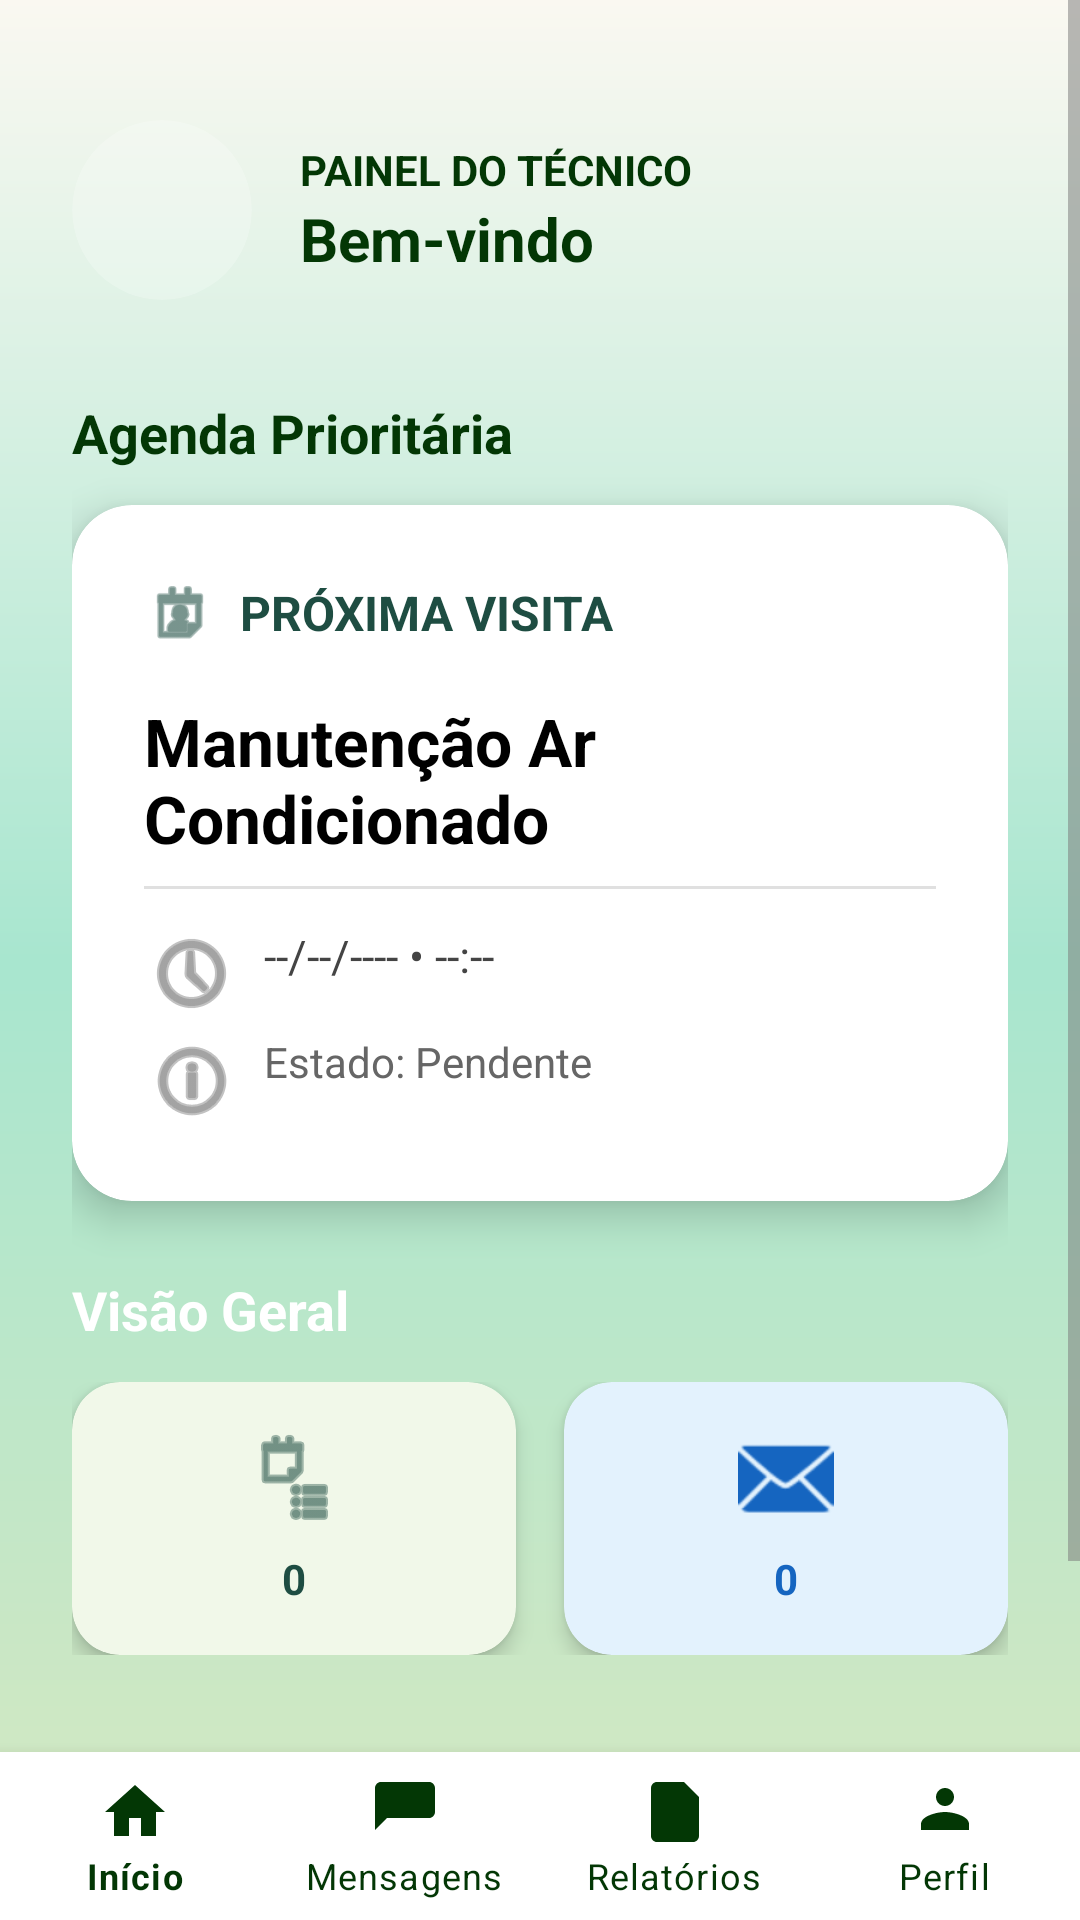

Where icons sit on this 1080*1920 app screen, as {"left": x1, "top": y1, "right": x2, "bottom": y2}:
agenda: {"left": 261, "top": 1435, "right": 328, "bottom": 1520}
calendar: {"left": 157, "top": 586, "right": 203, "bottom": 639}
email: {"left": 738, "top": 1445, "right": 834, "bottom": 1513}
